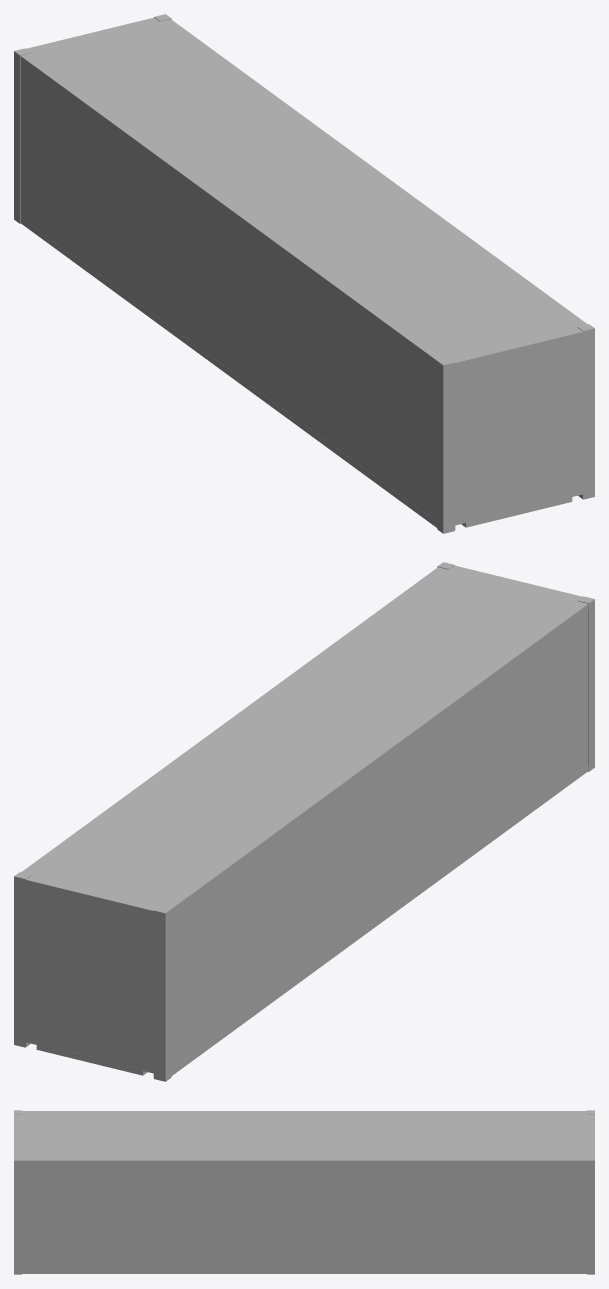
The model's file is Container_LPSP_Baked.fbx.
3 renders of one model, top to bottom at view 1: azimuth 30°, elevation 25°; view 2: azimuth 150°, elevation 25°; view 3: azimuth 270°, elevation 25°, orthographic. The views are drawn at different scales.
Visible parts, largest first — view 1: Container - LP.001; view 2: Container - LP.001; view 3: Container - LP.001.
Boxes of the visible parts, x1=… form: Container - LP.001: x1=14, y1=14, x2=594, y2=533; Container - LP.001: x1=14, y1=562, x2=594, y2=1081; Container - LP.001: x1=14, y1=1110, x2=594, y2=1274.
Size of the model in its own units: 246 by 261 by 1205.
1 material, 1 textured.
